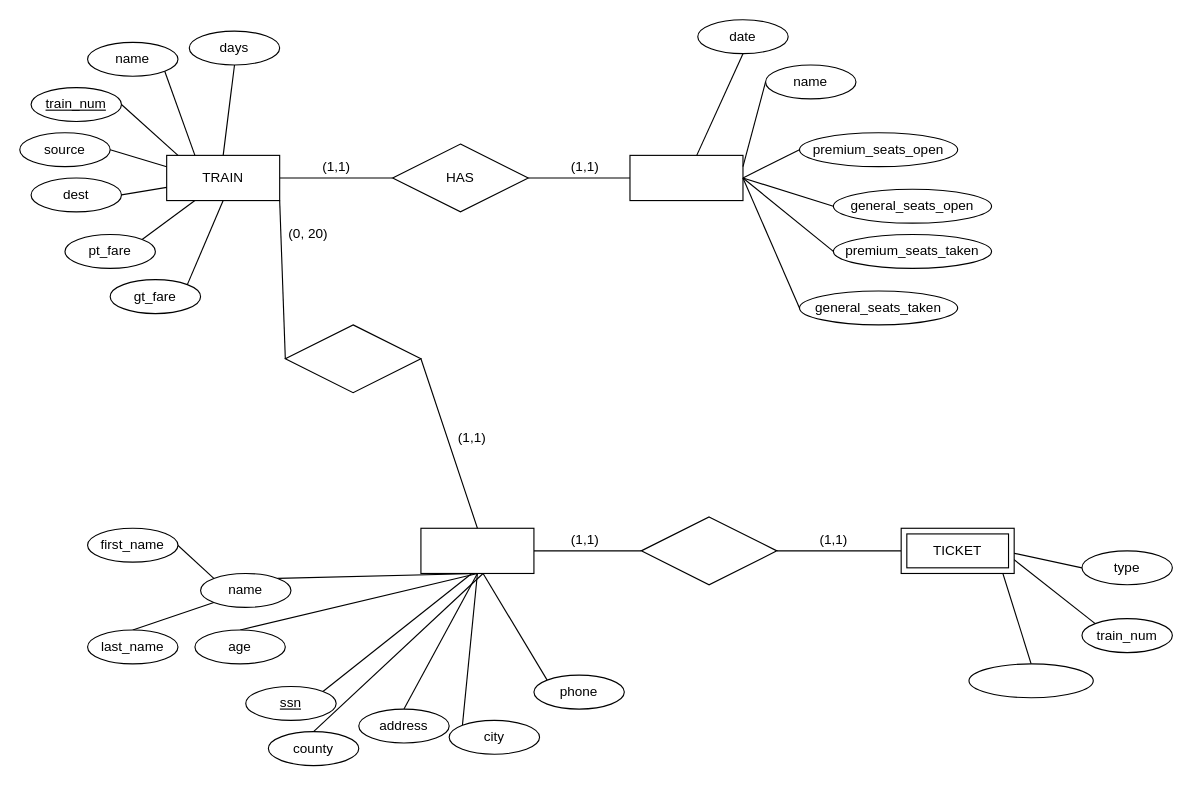
The diagram is 1192 pixels wide and 785 high, and some of its shapes have lost their labels. The shapes that lost their labels are listed below. From the top down, each one's centre as x and y in pixels, then its label:
the point at 686,177: TRAIN_STATUS
the point at 352,358: BOOKS
the point at 477,550: PASSENGER
the point at 708,550: BUYS
the point at 1030,680: passenger_ssn
